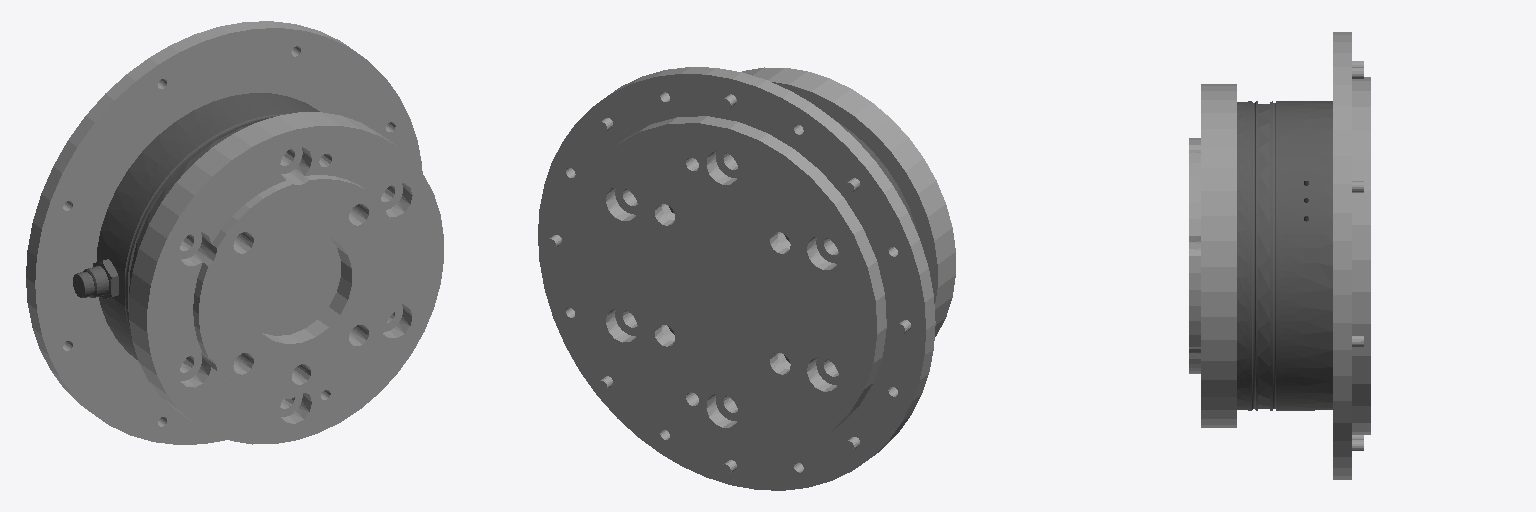
Rendered from axia_assembly.obj.
3 views of the same model, side by side, from view 1: azimuth 30°, elevation 25°; view 2: azimuth 150°, elevation 25°; view 3: azimuth 270°, elevation 25° (orthographic).
Visible parts, largest first — view 1: Part_1_Part_1.001; view 2: Part_1_Part_1.001; view 3: Part_1_Part_1.001.
Part boxes in pixels (left/top/right/bottom): Part_1_Part_1.001: left=26, top=21, right=443, bottom=444; Part_1_Part_1.001: left=538, top=67, right=955, bottom=490; Part_1_Part_1.001: left=1189, top=32, right=1370, bottom=479.
Size of the model in its own units: 0.119 by 0.119 by 0.0482.